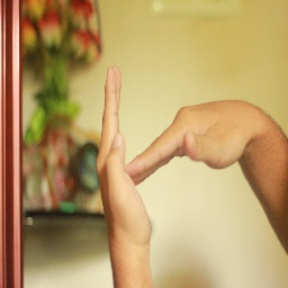Z: (93, 61, 249, 241)
